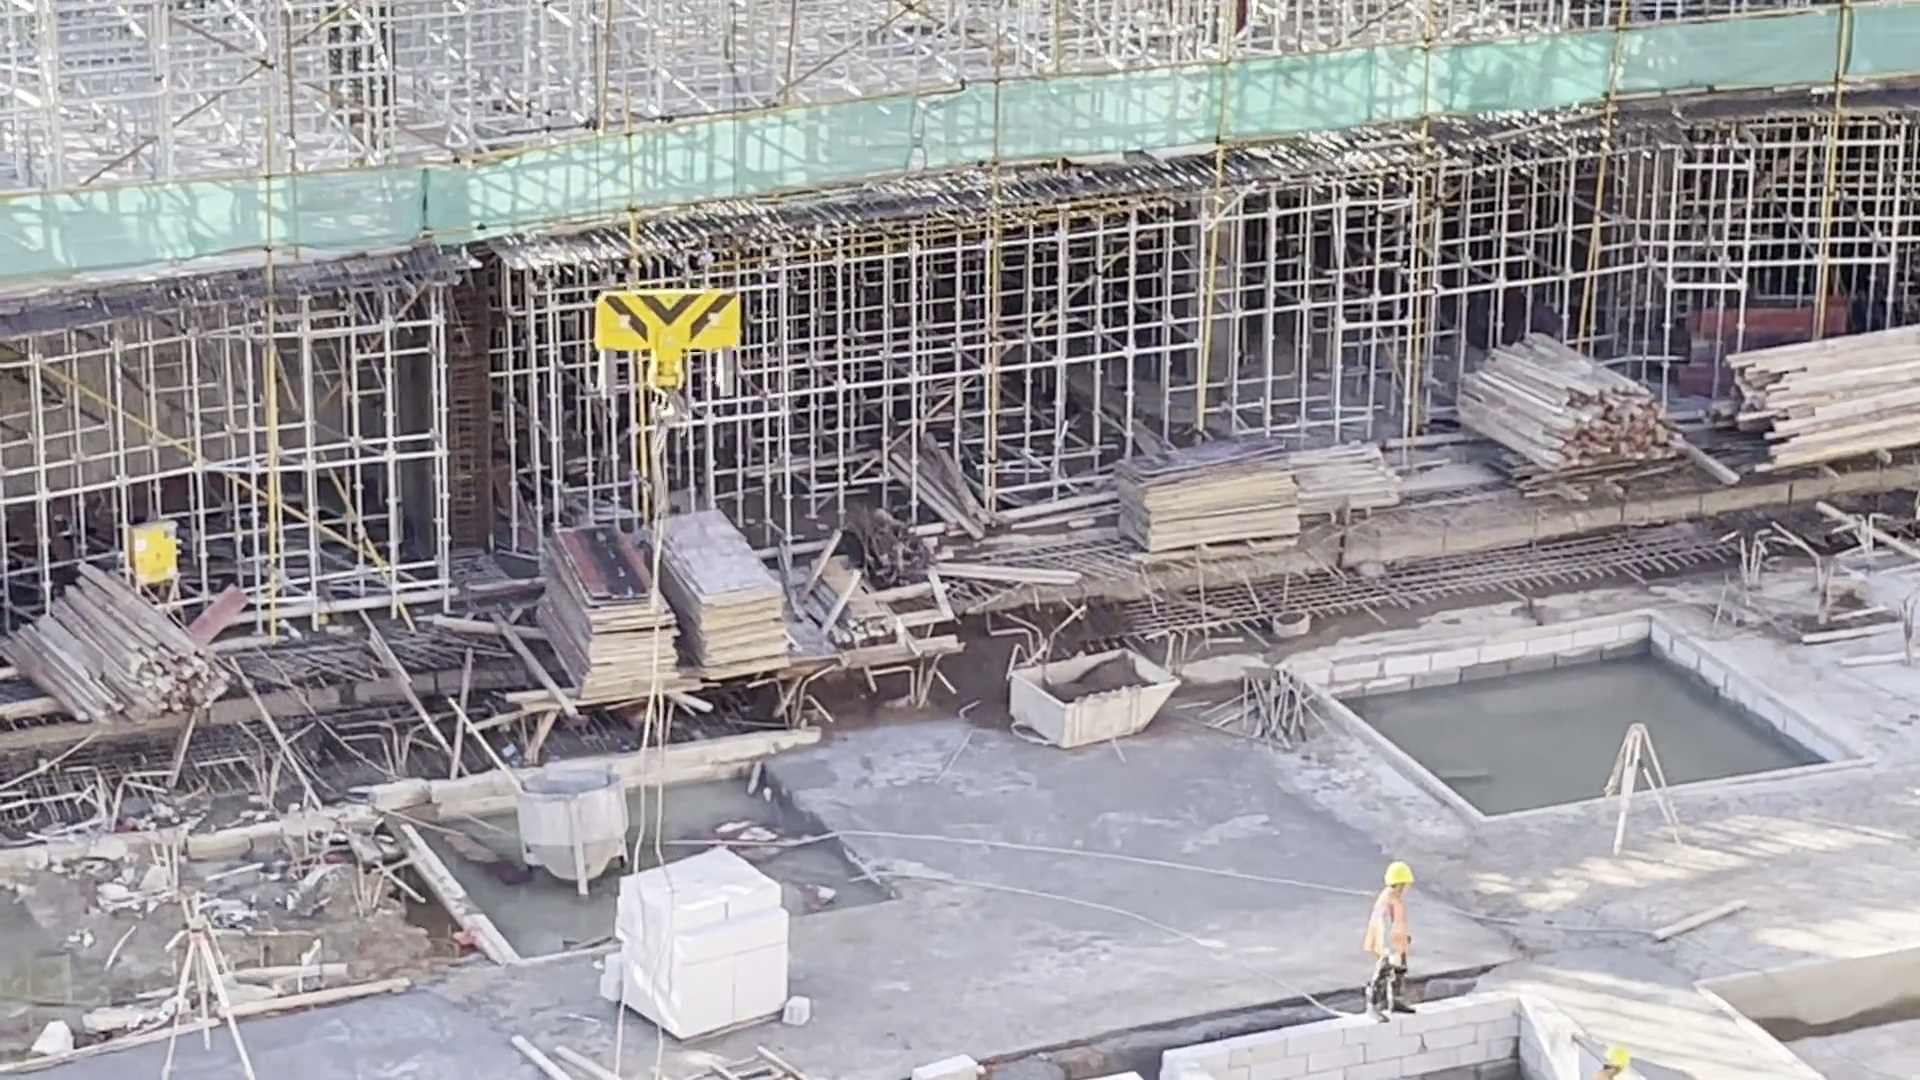board: (530, 522, 685, 706), (651, 504, 799, 685), (1107, 428, 1301, 561)
brick: (606, 843, 795, 1043)
ebox: (124, 520, 189, 595)
helmet: (1379, 862, 1416, 888), (1598, 1041, 1632, 1067)
hook: (589, 279, 750, 439)
hopper: (1006, 642, 1187, 760), (517, 769, 629, 894)
person: (1365, 859, 1427, 1023)
vest: (1366, 894, 1414, 957)
wood: (1452, 324, 1691, 494), (8, 565, 238, 727), (1730, 322, 1920, 472)
